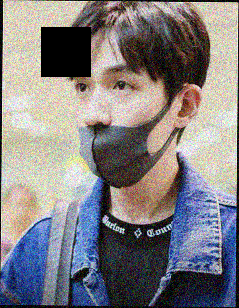mask_weared_incorrect: (70, 62, 164, 190)
